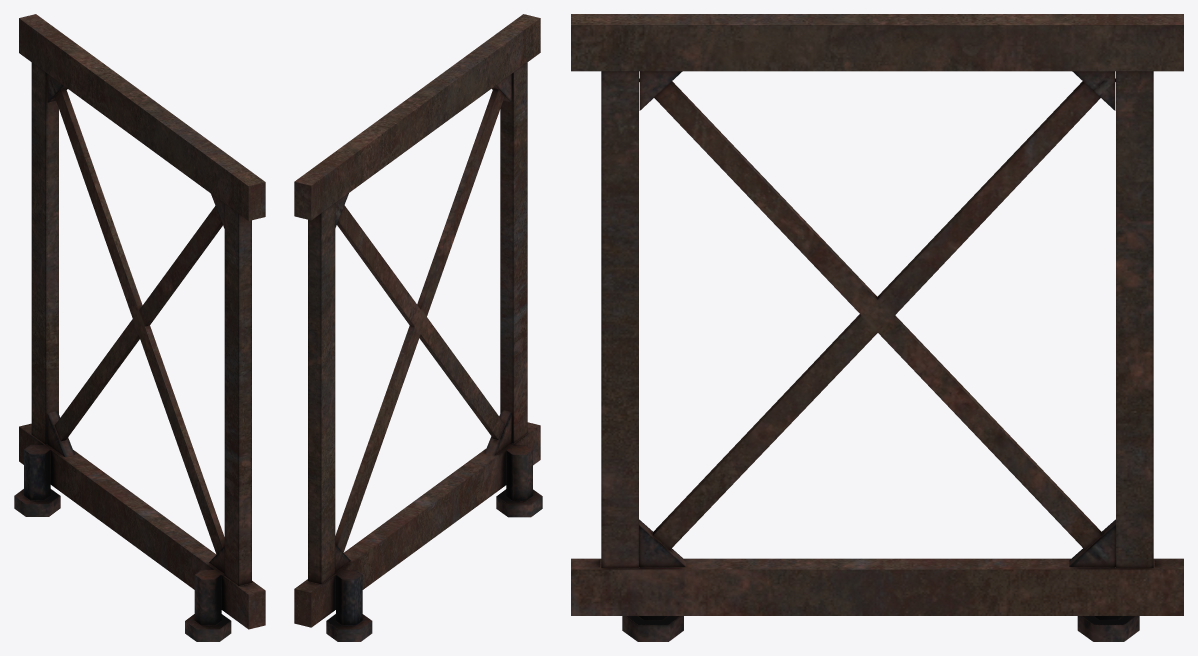
The model's file is TankMetalBase_02.FBX.
3 views of the same model, side by side, from view 1: azimuth 30°, elevation 25°; view 2: azimuth 150°, elevation 25°; view 3: azimuth 270°, elevation 25° (orthographic). The views are drawn at different scales.
Parts seen in each view (by area): view 1: TankMetalBase_02; view 2: TankMetalBase_02; view 3: TankMetalBase_02.
Boxes of the visible parts, x1,y1,x2,y2 form: TankMetalBase_02: (14,14,265,641); TankMetalBase_02: (294,14,542,641); TankMetalBase_02: (571,14,1183,641).
Bounding box in the file's own units: 29.22 × 295 × 263.
